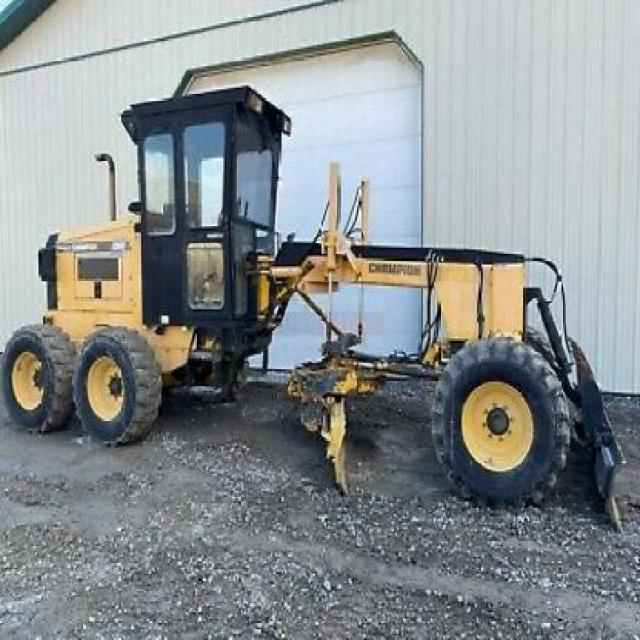Grader: (3, 80, 628, 534)
